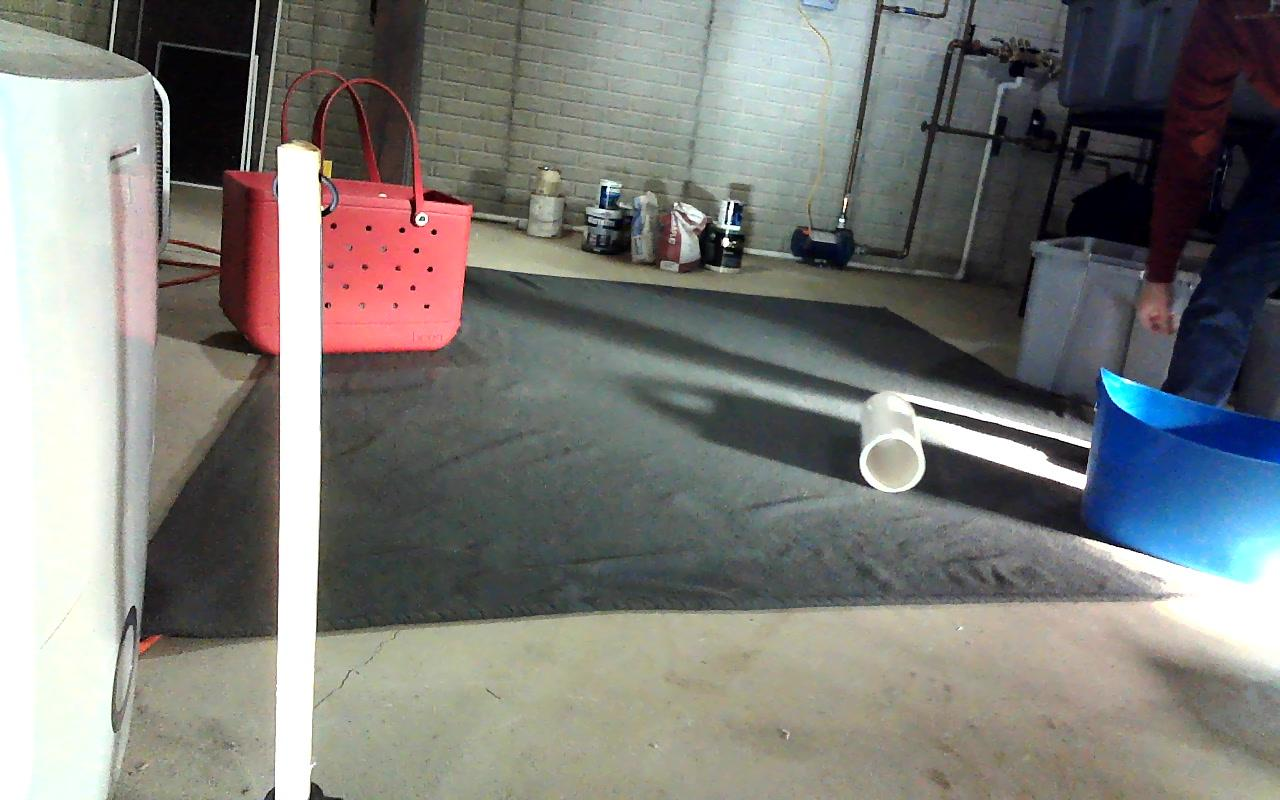coral: (859, 391, 926, 490)
